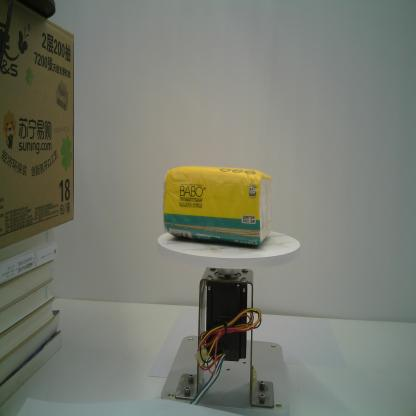Tissue: (163, 163, 274, 246)
